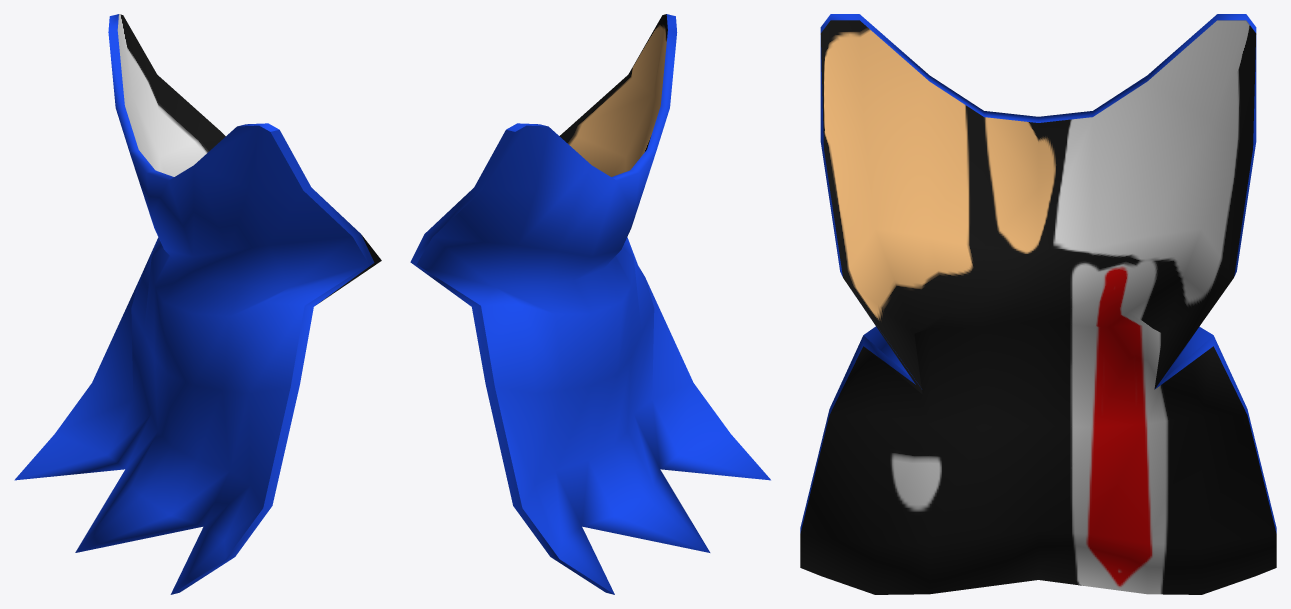
Rendered from dracular cloak.FBX.
3 renders of one model, left to right at view 1: azimuth 30°, elevation 25°; view 2: azimuth 150°, elevation 25°; view 3: azimuth 270°, elevation 25°, orthographic. The views are drawn at different scales.
Parts seen in each view (by area): view 1: Object396; view 2: Object396; view 3: Object396.
Boxes of the visible parts, box(x1,y1,x2,y2) form: Object396: box(14, 14, 381, 594); Object396: box(410, 14, 770, 594); Object396: box(800, 14, 1276, 594).
Bounding box in the file's own units: 1.24 × 2.04 × 1.39.
